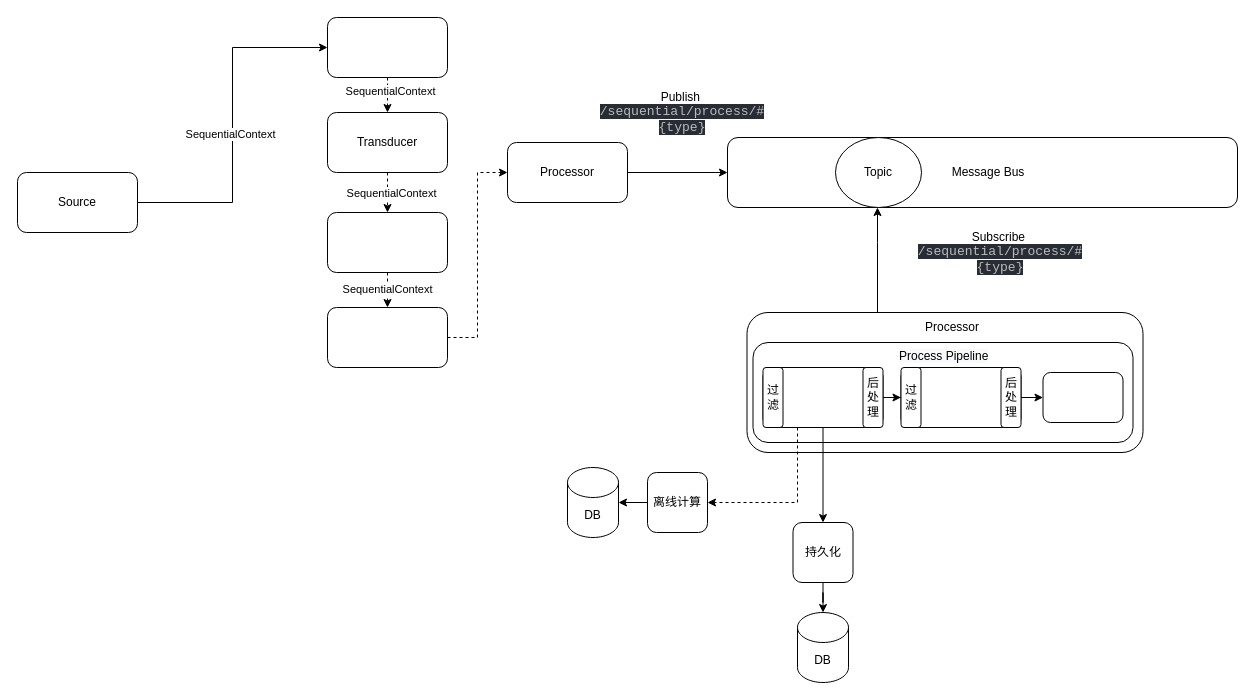
Some shapes in this 1255 by 700 pixel diagram are drawn without their labels. Each missing label, with the box of its shape:
Append Handler: (1042, 372, 1123, 422)
Compute: (326, 306, 448, 368)
Dispatcher: (326, 16, 448, 78)
Washer: (326, 212, 448, 272)
xxx Handler: (900, 366, 1021, 428)
计算 Handler: (762, 366, 883, 428)
